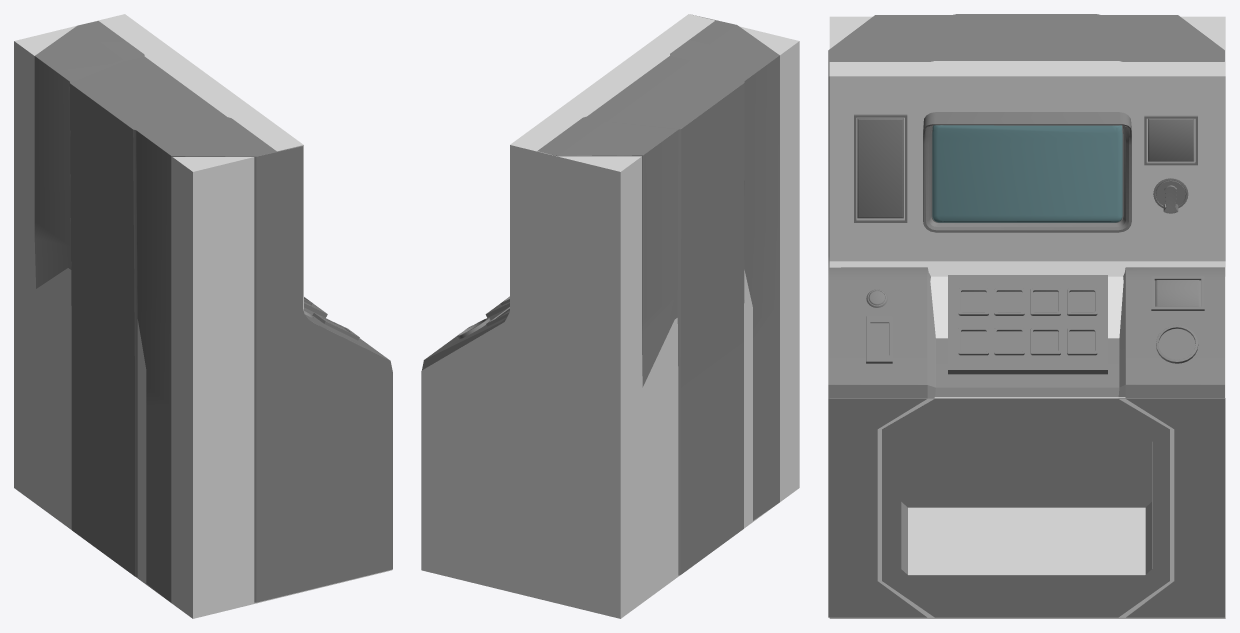
The model's file is Computer_Base.fbx.
The picture shows the model from 3 angles, left to right: view 1: azimuth 30°, elevation 25°; view 2: azimuth 150°, elevation 25°; view 3: azimuth 270°, elevation 25°; orthographic projection. The views are drawn at different scales.
Parts seen in each view (by area): view 1: Computer_Base fbx, c_Computer_Base; view 2: c_Computer_Base, Computer_Base fbx; view 3: Computer_Base fbx, c_Computer_Base.
Boxes of the visible parts, x1,y1,x2,y2 form: Computer_Base fbx: [34, 21, 392, 602]; c_Computer_Base: [14, 14, 391, 618]; c_Computer_Base: [421, 14, 799, 618]; Computer_Base fbx: [422, 14, 779, 575]; Computer_Base fbx: [828, 14, 1224, 617]; c_Computer_Base: [829, 16, 1225, 618].
Bounding box in the file's own units: 112 × 238 × 173.
